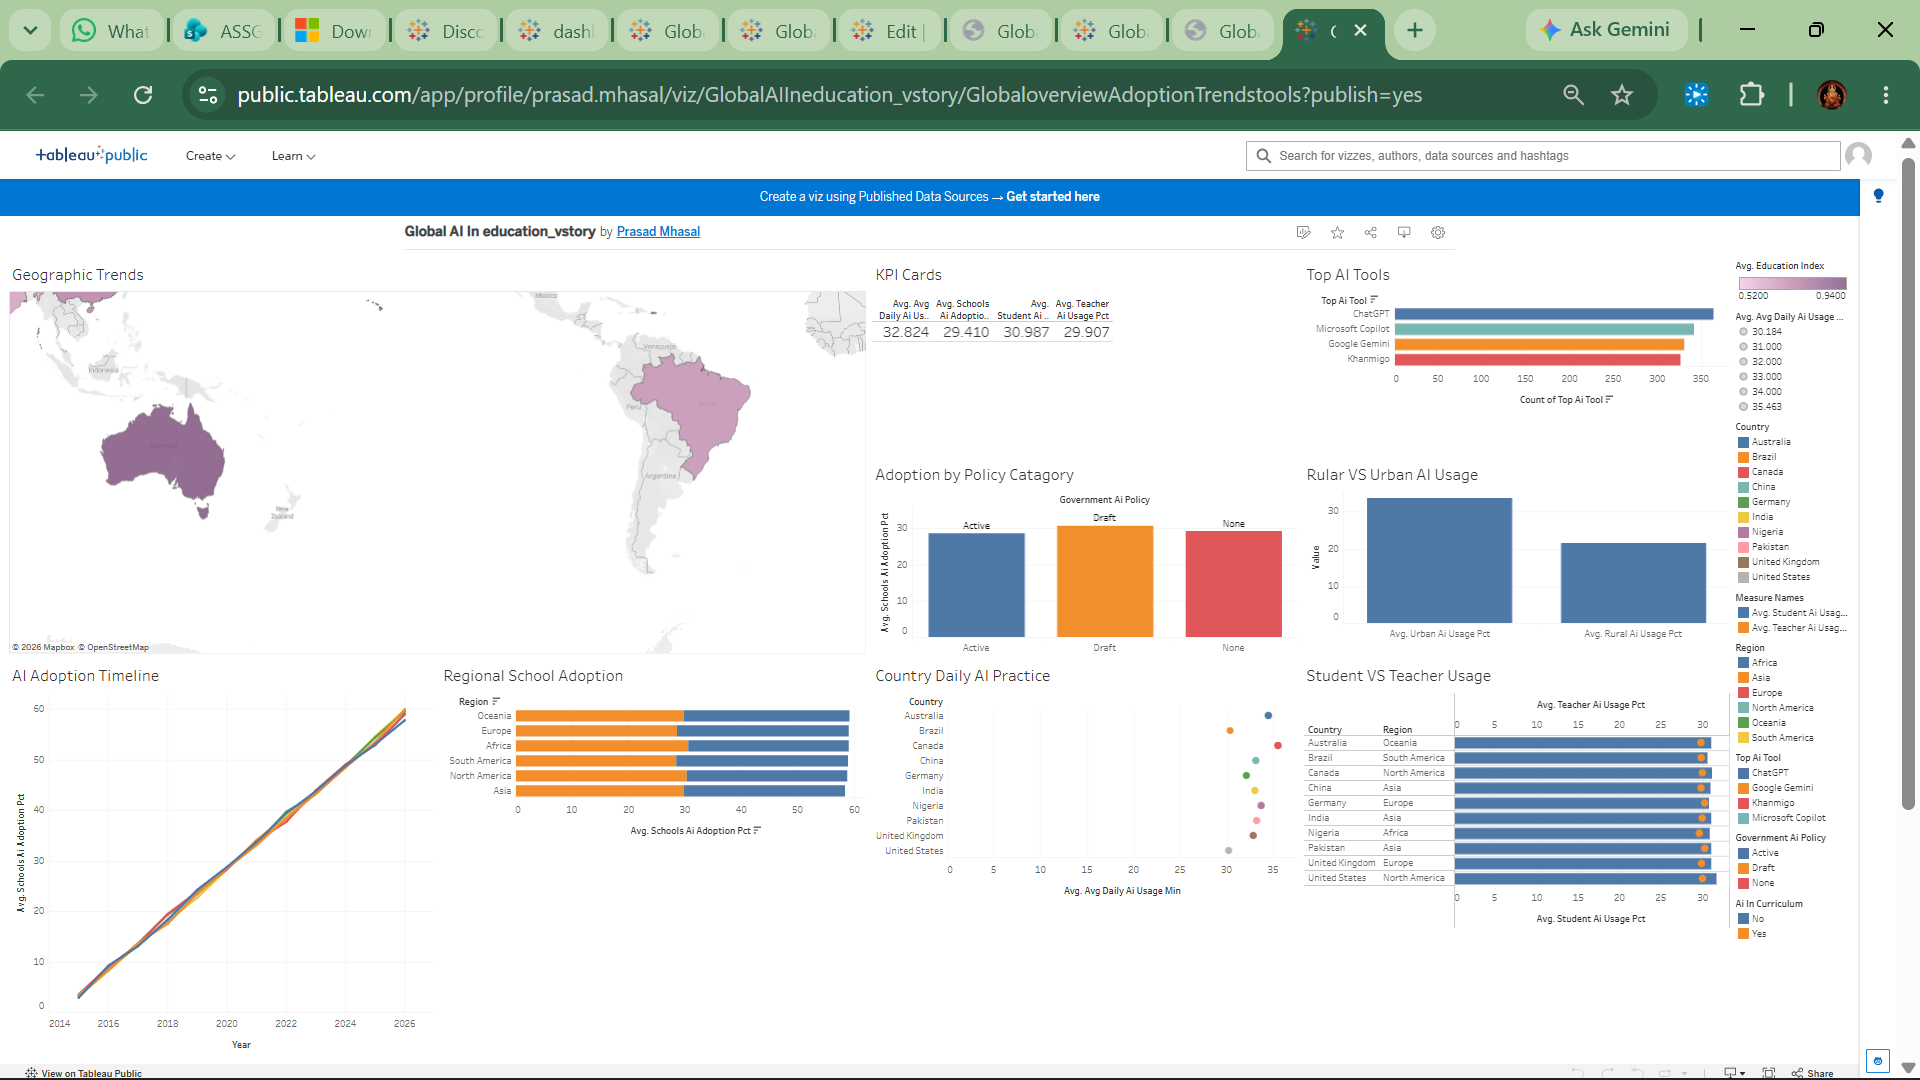

The page's visual inventory and layout, read from the dashboard file:
{"tool":"tableau","page":{"name":"Global overview & Adoption Trends&tools","canvas":[1000,1000],"units":"permille","ordinal":2},"visuals":[{"type":"worksheet","title":"Geographic Trends","mark":"Automatic","box":[7.1,12.5,421.7,487.5]},{"type":"worksheet","title":"KPI Cards","mark":"Automatic","box":[428.8,12.5,210.9,243.7]},{"type":"worksheet","title":"Top AI Tools","mark":"Automatic","rows":["top_ai_tool"],"cols":["top_ai_tool"],"box":[639.6,12.5,210.9,243.7]},{"type":"legend","title":"Geographic Trends","param":"[federated.0sc8wde0a27uk51etmsd5133rid2].[avg:education_index:qk]","box":[850.5,12.5,142.3,121.9]},{"type":"legend","title":"Country Daily AI Practice","param":"[federated.0sc8wde0a27uk51etmsd5133rid2].[avg:avg_daily_ai_usage_min:qk]","box":[850.5,134.3,142.3,121.9]},{"type":"worksheet","title":"Adoption by Policy Catagory","mark":"Bar","rows":["schools_ai_adoption_pct"],"cols":["government_ai_policy"],"box":[428.8,256.2,210.9,243.8]},{"type":"worksheet","title":"Rular VS Urban AI Usage","mark":"Automatic","box":[639.6,256.2,210.9,243.8]},{"type":"legend","title":"Country Daily AI Practice","param":"[federated.0sc8wde0a27uk51etmsd5133rid2].[none:country:nk]","box":[850.5,256.2,142.3,121.9]},{"type":"legend","title":"Student VS Teacher Usage","param":"[federated.0sc8wde0a27uk51etmsd5133rid2].[:Measure Names]","box":[850.5,378.1,142.3,121.9]},{"type":"worksheet","title":"AI Adoption Timeline","mark":"Line","rows":["schools_ai_adoption_pct"],"cols":["year"],"box":[7.1,500,210.8,487.5]},{"type":"worksheet","title":"Regional School Adoption","mark":"Automatic","rows":["region"],"cols":["schools_ai_adoption_pct"],"box":[218,500,210.8,487.5]},{"type":"worksheet","title":"Country Daily AI Practice","mark":"Circle","rows":["country"],"cols":["avg_daily_ai_usage_min"],"box":[428.8,500,210.9,487.5]},{"type":"worksheet","title":"Student VS Teacher Usage","mark":"Automatic","rows":["country","region"],"cols":["student_ai_usage_pct","teacher_ai_usage_pct"],"box":[639.6,500,210.9,487.5]},{"type":"legend","title":"AI Adoption Timeline","param":"[federated.0sc8wde0a27uk51etmsd5133rid2].[none:region:nk]","box":[850.5,500,142.3,121.9]},{"type":"legend","title":"Top AI Tools","param":"[federated.0sc8wde0a27uk51etmsd5133rid2].[none:top_ai_tool:nk]","box":[850.5,621.9,142.3,121.9]},{"type":"legend","title":"Adoption by Policy Catagory","param":"[federated.0sc8wde0a27uk51etmsd5133rid2].[none:government_ai_policy:nk]","box":[850.5,743.7,142.3,121.9]},{"type":"legend","title":"Regional School Adoption","param":"[federated.0sc8wde0a27uk51etmsd5133rid2].[none:ai_in_curriculum:nk]","box":[850.5,865.6,142.3,121.9]}]}

Visuals, with their boxes on the dashboard's canvas, which has no fixed pixel size, in thousandths of its width and height (x1, y1, x2, y2). These are canvas units, not pixel positions in the 1920x1080 screenshot, which may show the page scaled, cropped or inside an application window:
"Geographic Trends" worksheet: (x1=7, y1=12, x2=429, y2=500)
"KPI Cards" worksheet: (x1=429, y1=12, x2=640, y2=256)
"Top AI Tools" worksheet: (x1=640, y1=12, x2=850, y2=256)
"Geographic Trends" legend: (x1=850, y1=12, x2=993, y2=134)
"Country Daily AI Practice" legend: (x1=850, y1=134, x2=993, y2=256)
"Adoption by Policy Catagory" worksheet (Bar marks): (x1=429, y1=256, x2=640, y2=500)
"Rular VS Urban AI Usage" worksheet: (x1=640, y1=256, x2=850, y2=500)
"Country Daily AI Practice" legend: (x1=850, y1=256, x2=993, y2=378)
"Student VS Teacher Usage" legend: (x1=850, y1=378, x2=993, y2=500)
"AI Adoption Timeline" worksheet (Line marks): (x1=7, y1=500, x2=218, y2=988)
"Regional School Adoption" worksheet: (x1=218, y1=500, x2=429, y2=988)
"Country Daily AI Practice" worksheet (Circle marks): (x1=429, y1=500, x2=640, y2=988)
"Student VS Teacher Usage" worksheet: (x1=640, y1=500, x2=850, y2=988)
"AI Adoption Timeline" legend: (x1=850, y1=500, x2=993, y2=622)
"Top AI Tools" legend: (x1=850, y1=622, x2=993, y2=744)
"Adoption by Policy Catagory" legend: (x1=850, y1=744, x2=993, y2=866)
"Regional School Adoption" legend: (x1=850, y1=866, x2=993, y2=988)
